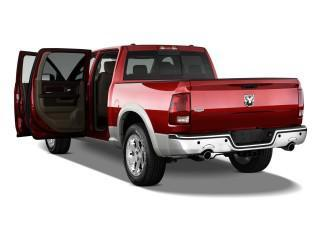ram: (240, 92, 256, 109)
